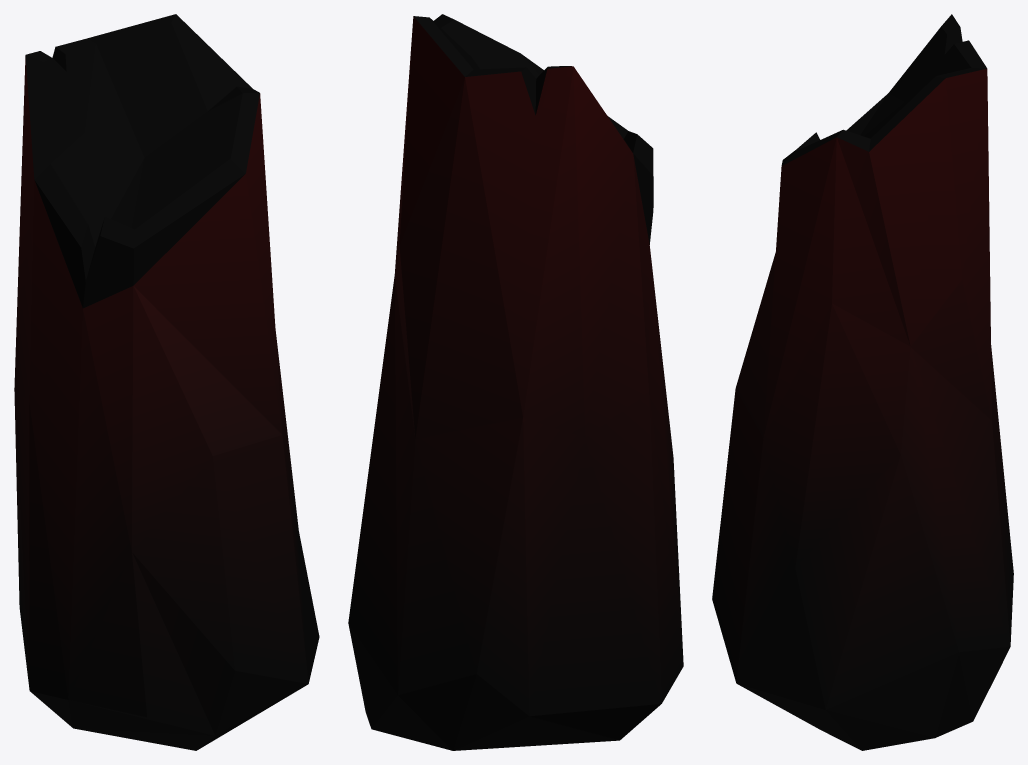
File: SM_Gen_Env_Stump_01.glb
3 views of the same model, side by side, from view 1: azimuth 30°, elevation 25°; view 2: azimuth 150°, elevation 25°; view 3: azimuth 270°, elevation 25° (orthographic). The views are drawn at different scales.
Visible parts, largest first — view 1: SM_Gen_Env_Stump_012; view 2: SM_Gen_Env_Stump_012; view 3: SM_Gen_Env_Stump_012.
Part boxes in pixels (x1,y1,x2,y2): SM_Gen_Env_Stump_012: (14,14,319,750); SM_Gen_Env_Stump_012: (348,14,683,750); SM_Gen_Env_Stump_012: (712,14,1013,750).
Size of the model in its own units: 0.5883 by 1.43 by 0.5802.
